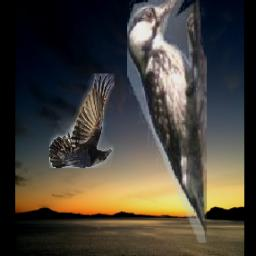Crow: (48, 75, 114, 169)
Woodpecker: (126, 0, 206, 243)
